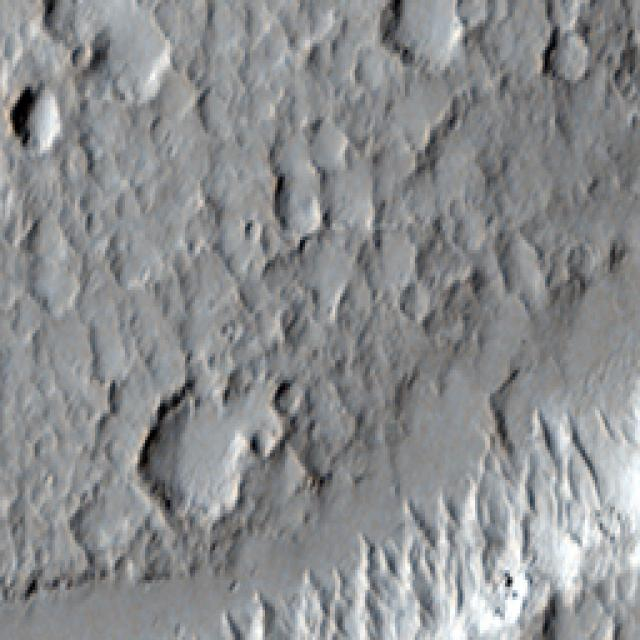Crater: (140, 370, 270, 540)
